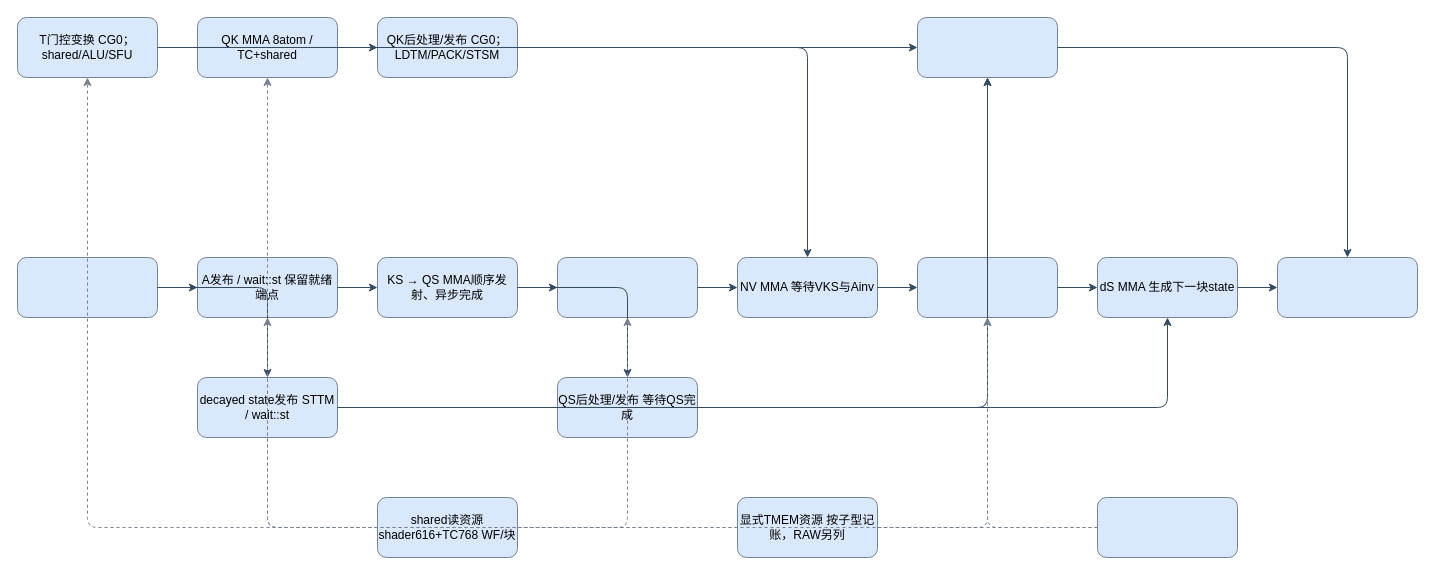
The diagram is 1435 pixels wide and 575 high, and some of its shapes have lost their labels. Each missing label, with the box of its shape:
ALU/浮点/SFU 原生工作量及issue/scoreboard: (1096, 496, 1238, 558)
KS residual V gather / VKS发布: (556, 256, 698, 318)
NV/Delta处理 LDTM/PACK/STTM: (916, 256, 1058, 318)
O MMA与暂存 等待QK权重/NV/QS: (916, 16, 1058, 78)
state读回、PACK 与decay算术交错: (16, 256, 158, 318)
返回 / 下一块 不可只累加warp阶段时间: (1276, 256, 1418, 318)
